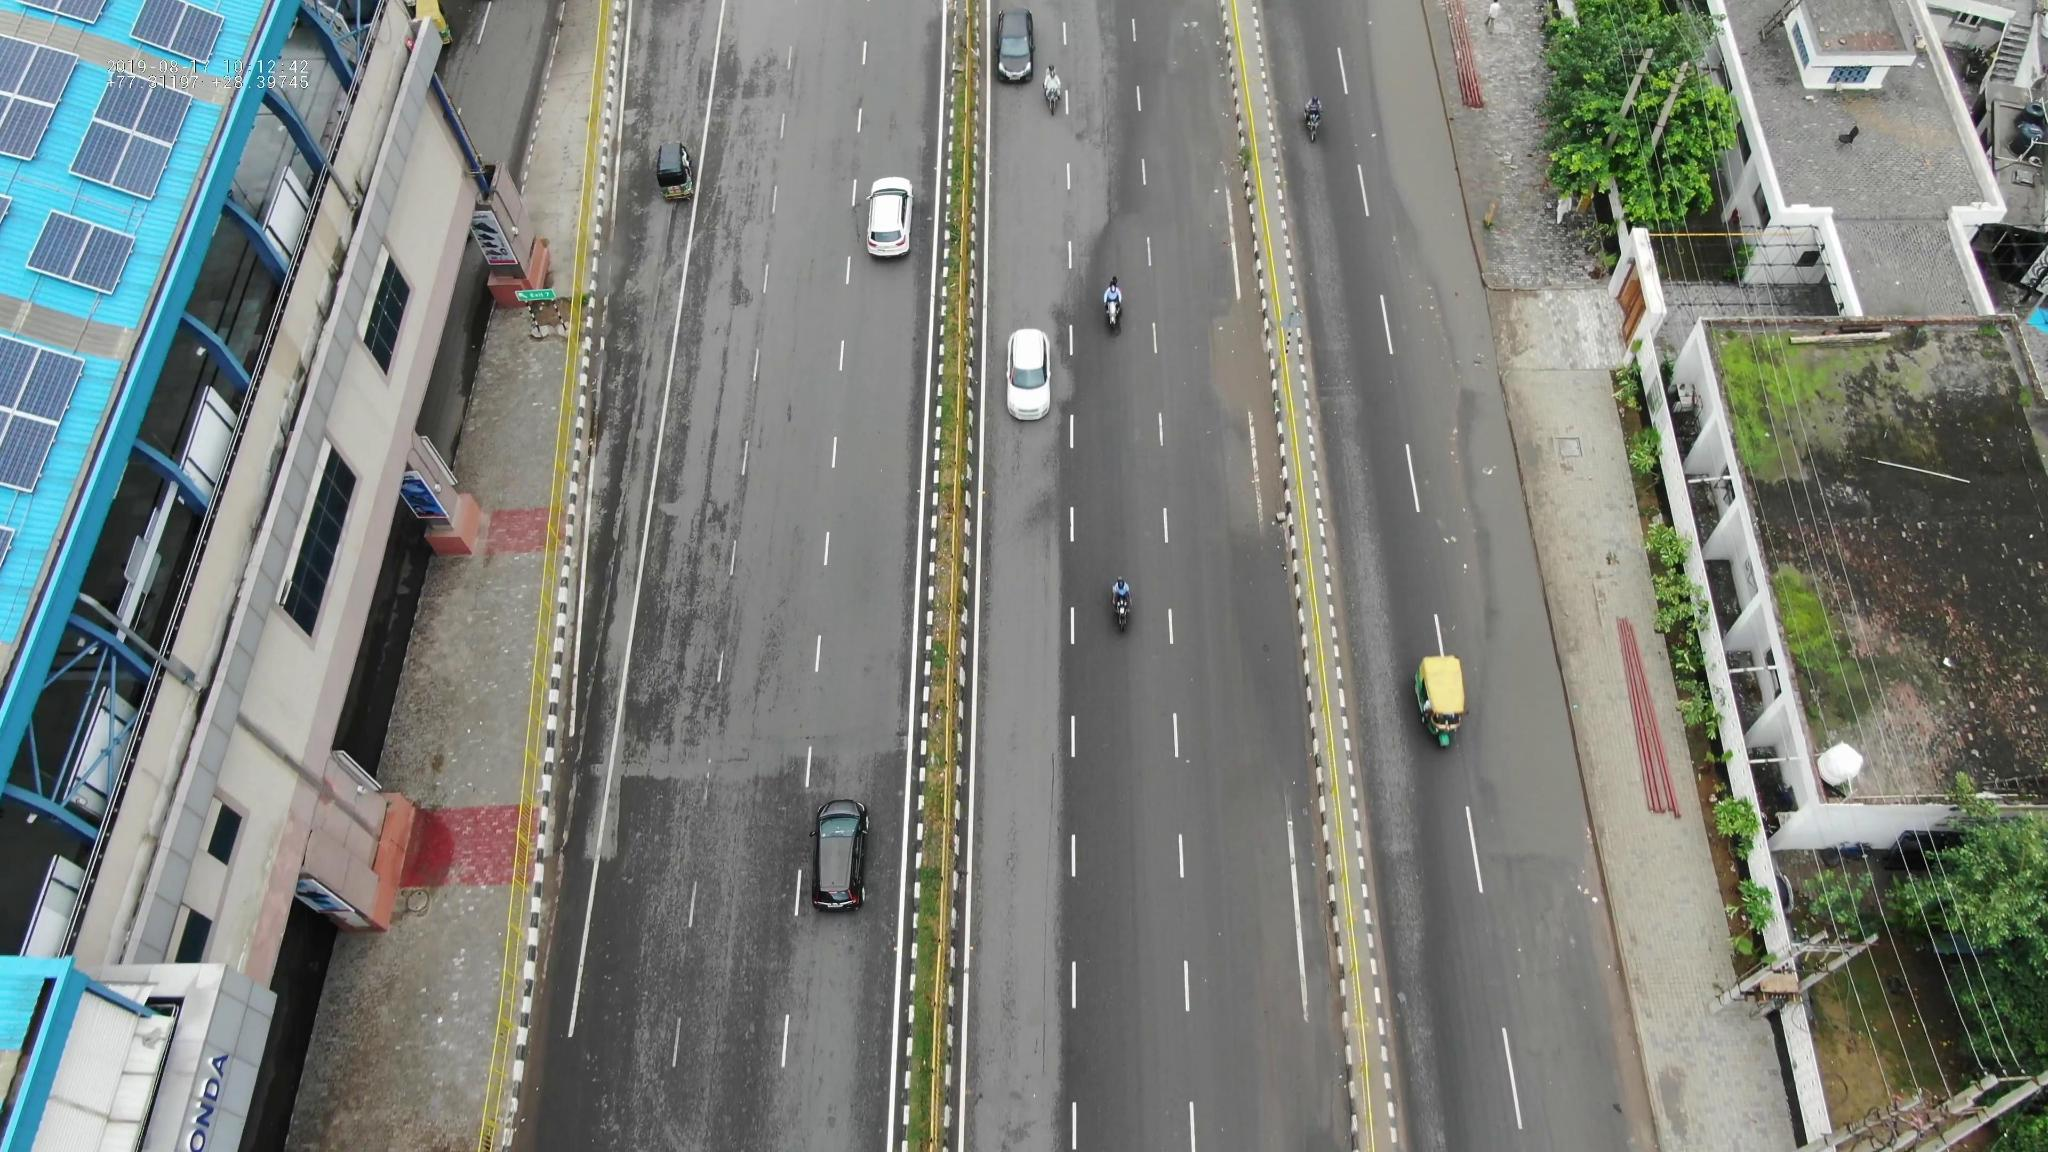Muddy_road: (1189, 284, 1291, 475)
Waterlogging: (1435, 397, 1568, 847), (1348, 8, 1474, 288)
